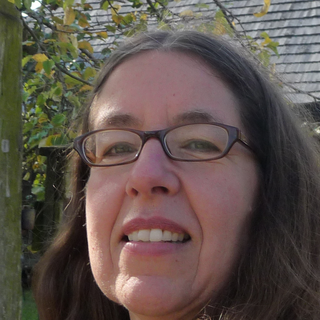eye: (175, 135, 223, 160), (98, 140, 139, 161)
